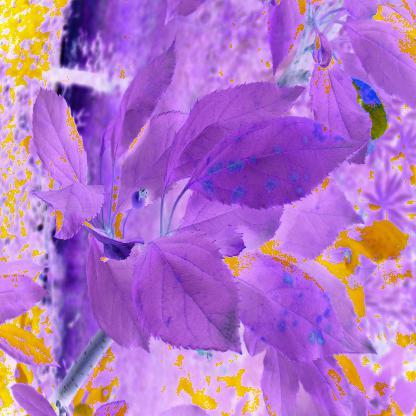Apple Scab Leaf: (189, 114, 363, 212), (228, 247, 360, 370), (135, 233, 249, 358)
